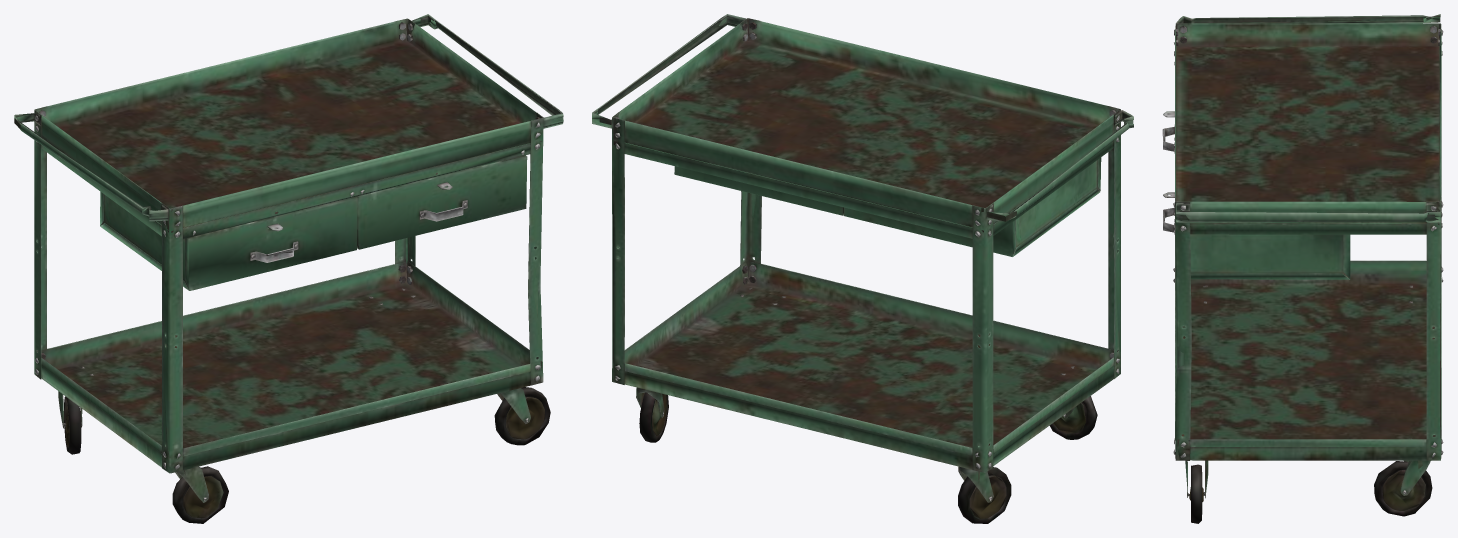
The model's file is tool_cart.glb.
3 views of the same model, side by side, from view 1: azimuth 30°, elevation 25°; view 2: azimuth 150°, elevation 25°; view 3: azimuth 270°, elevation 25° (orthographic). The views are drawn at different scales.
Parts seen in each view (by area): view 1: tool_cart; view 2: tool_cart; view 3: tool_cart.
Boxes of the visible parts, x1,y1,x2,y2 form: tool_cart: (14,14,563,523); tool_cart: (592,14,1133,523); tool_cart: (1162,14,1443,523).
Size of the model in its own units: 1.27 by 0.9631 by 0.7536.
Materials: 1 (1 with a texture image).
